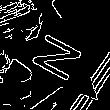N_SE: (26, 28, 89, 88)
